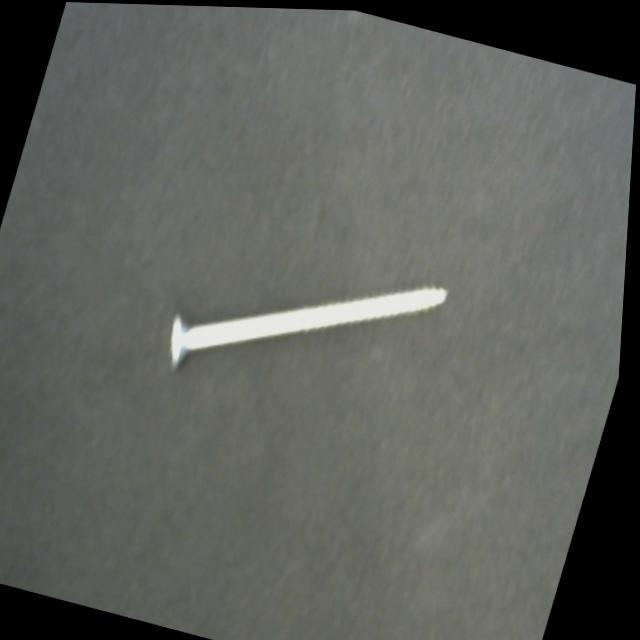WoodScrew: (148, 212, 460, 442)
